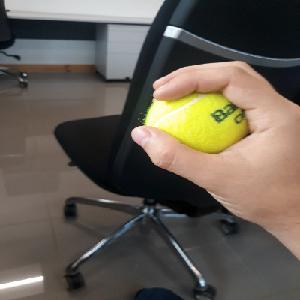Ball: (148, 93, 247, 152)
